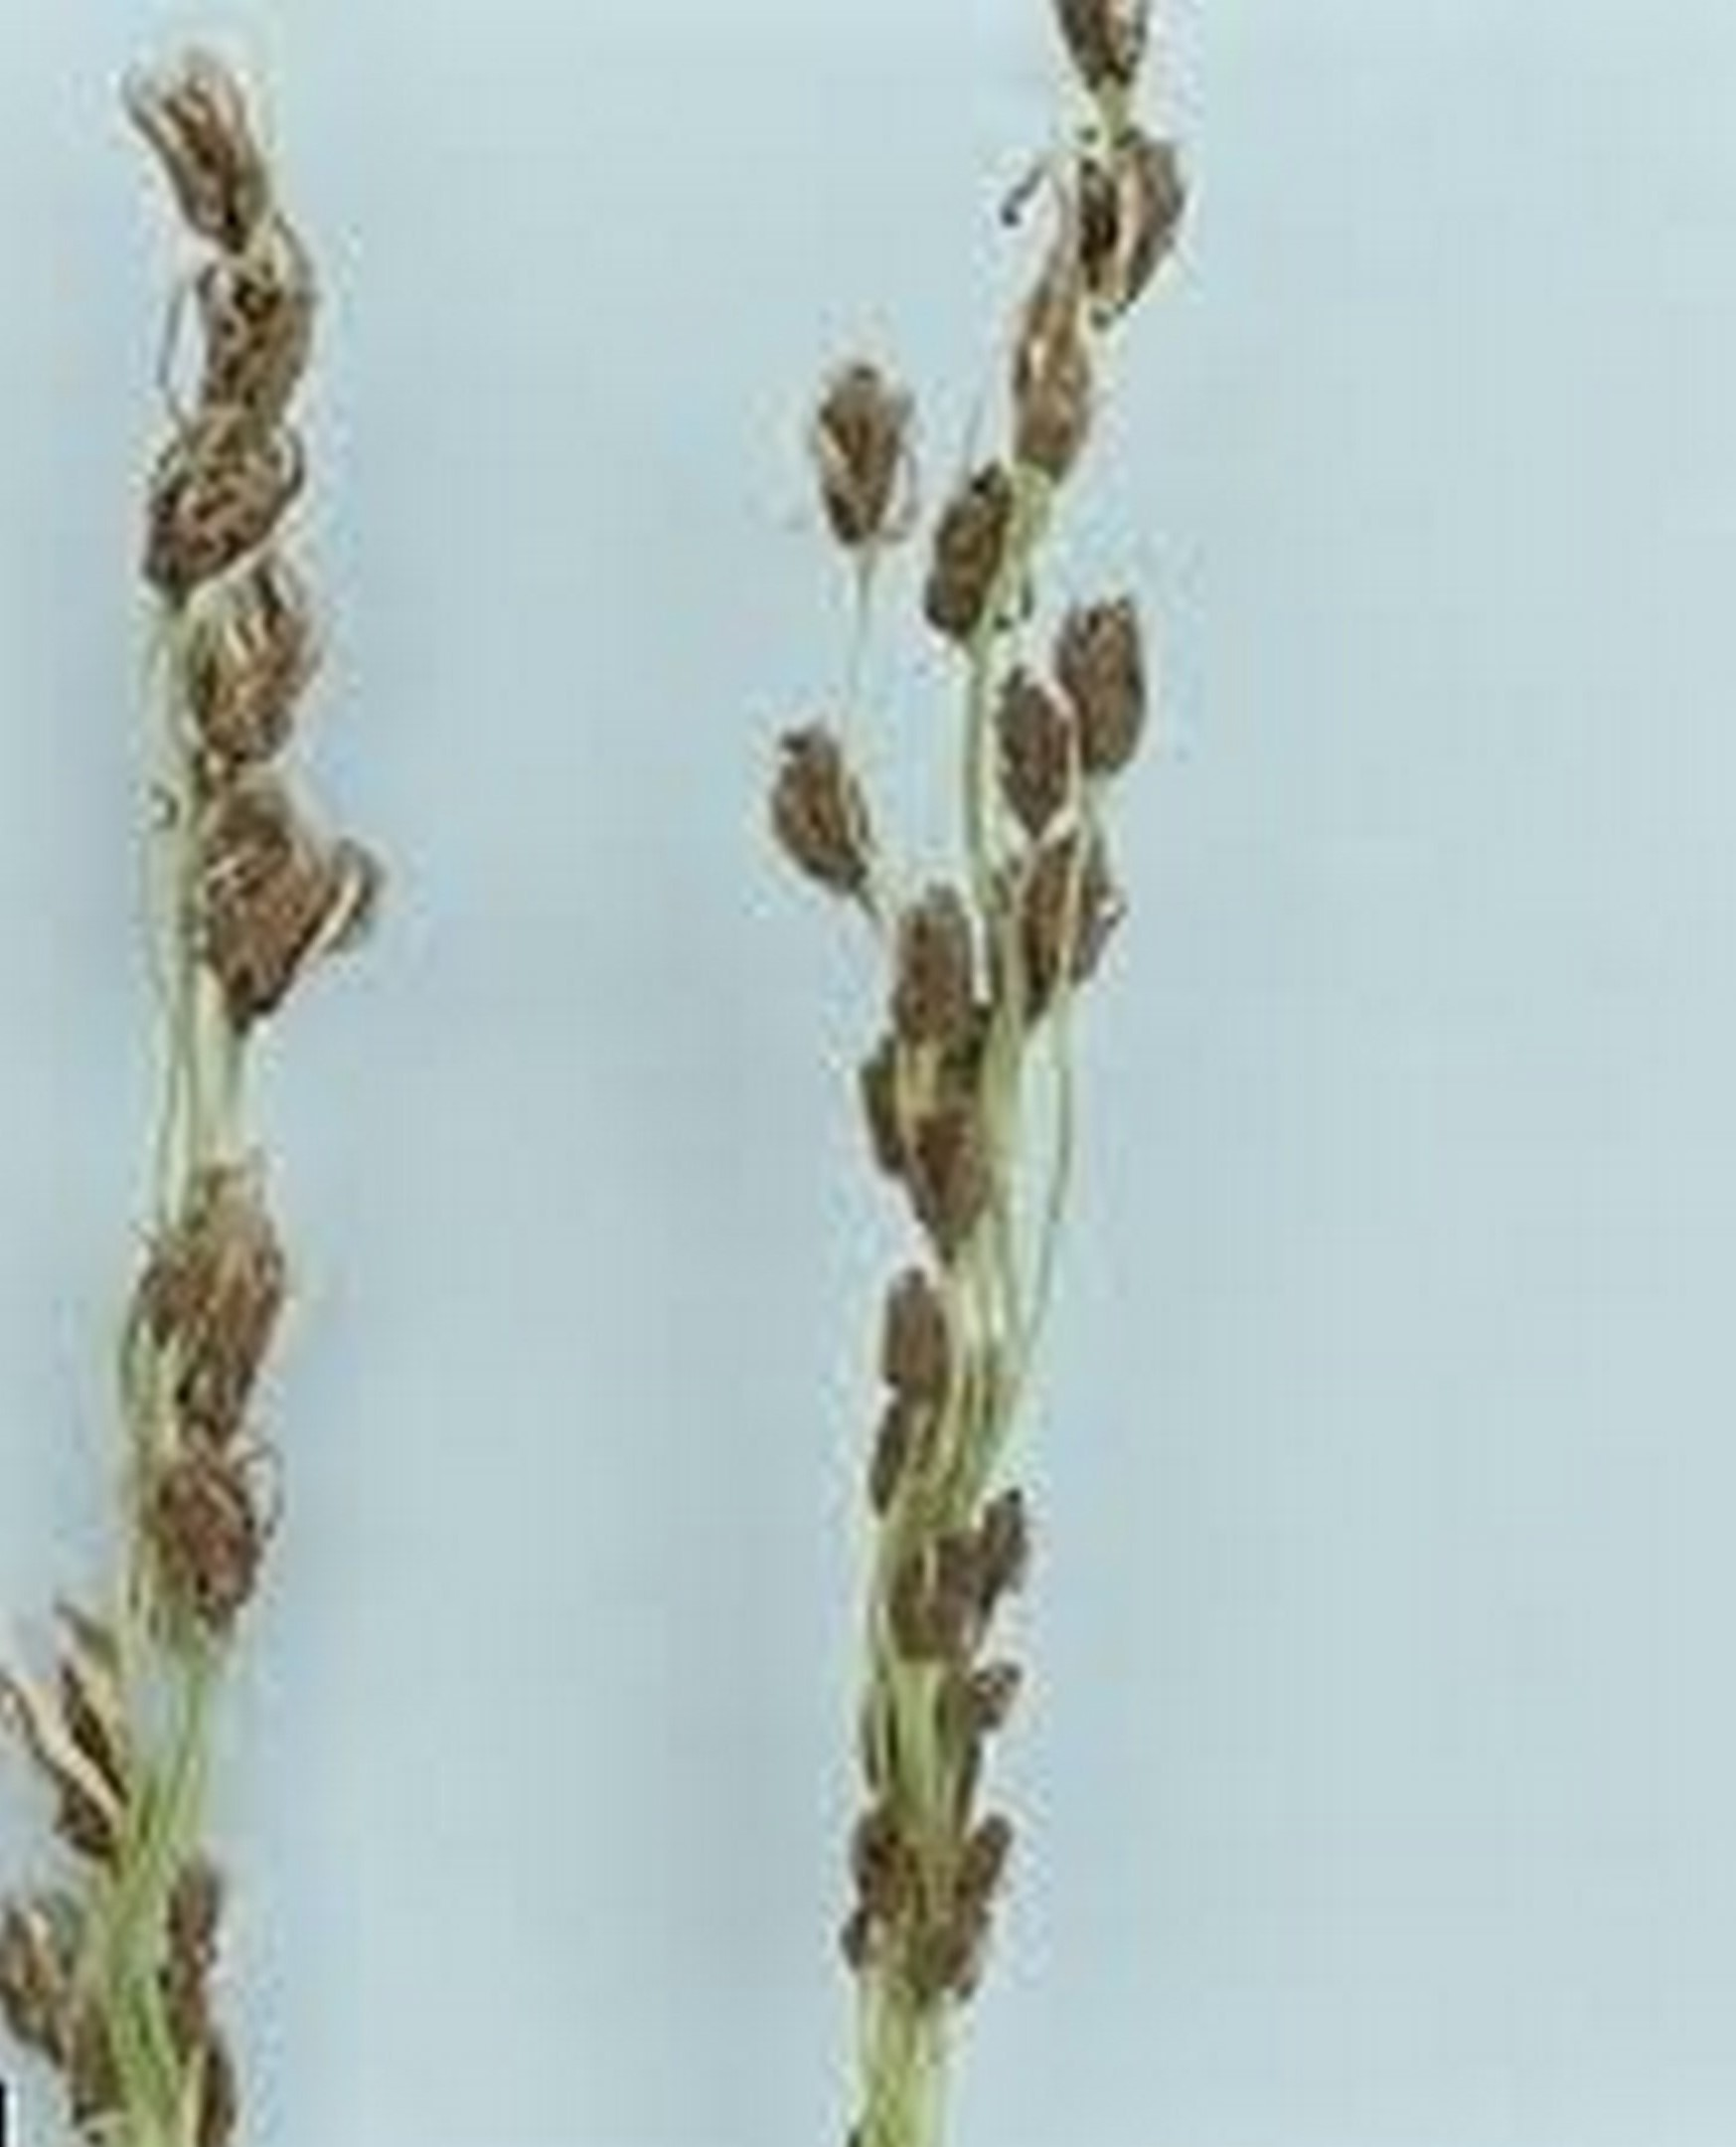Wheat Loose Smut: (55, 73, 1334, 1763)
